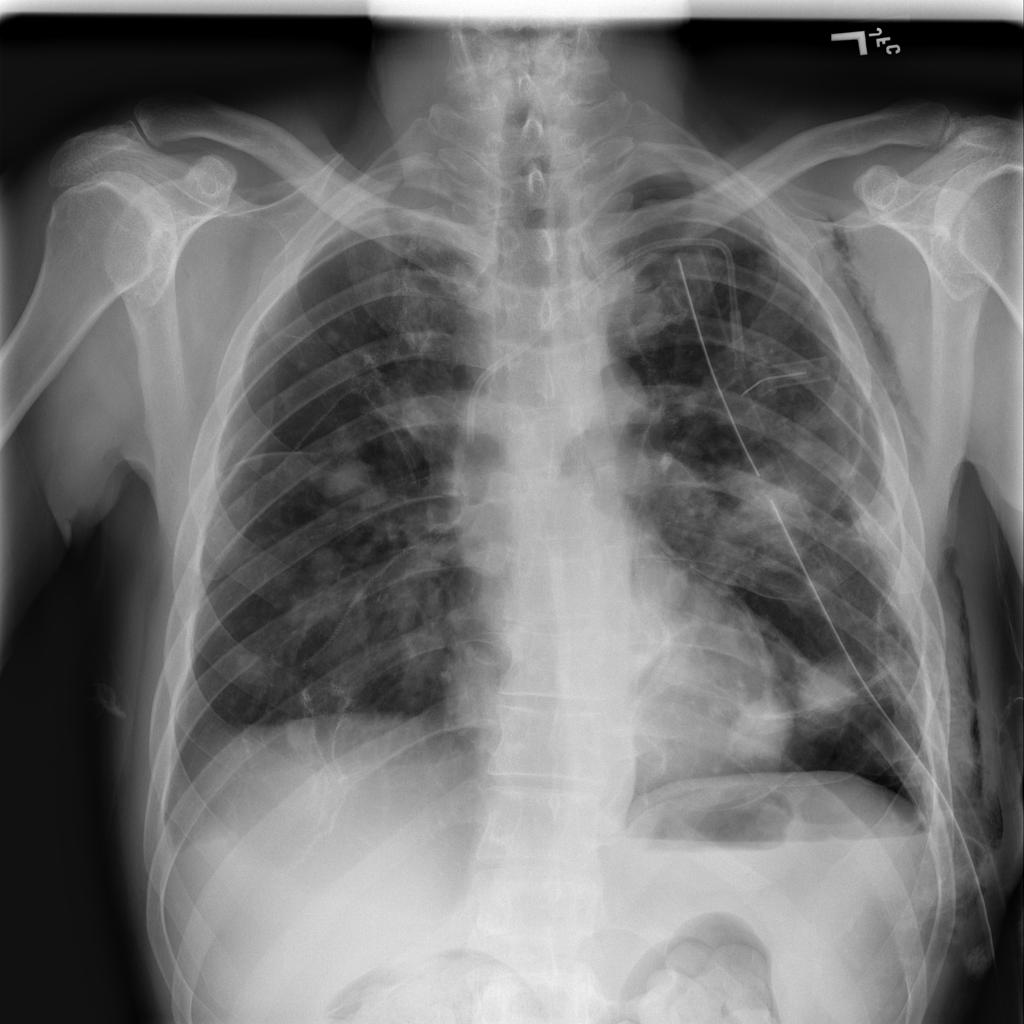nodule: (703, 448, 831, 576), (700, 674, 815, 782), (785, 651, 872, 728), (306, 442, 390, 515), (217, 633, 290, 703), (285, 530, 361, 593), (269, 695, 334, 767), (311, 309, 358, 362)
